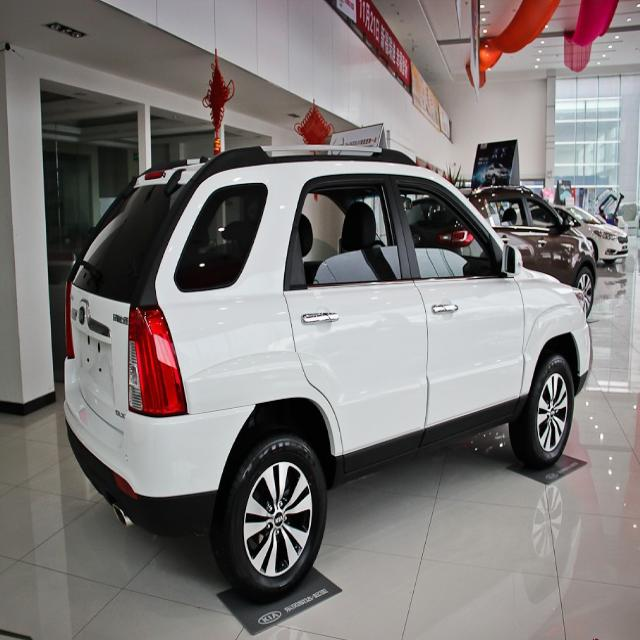back_glass: (72, 183, 186, 305)
back_left_side_light: (64, 280, 78, 361)
back_right_side_light: (126, 301, 190, 420)
door: (284, 177, 434, 449)
front_right_side_door: (388, 170, 525, 453)
front_right_side_light: (572, 286, 588, 321)
front_right_side_mirror: (499, 242, 527, 280)
rear_bumper: (61, 355, 257, 540)
wheel: (209, 437, 330, 602), (509, 355, 574, 466)
